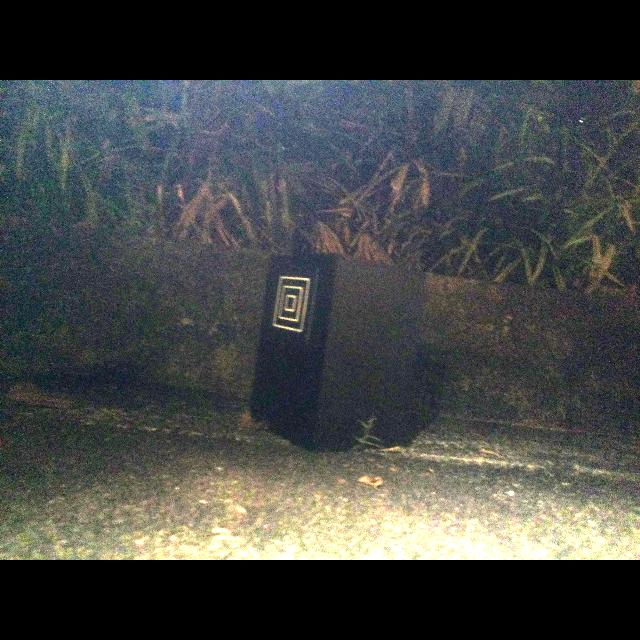BULLSEYE: (272, 277, 310, 333)
